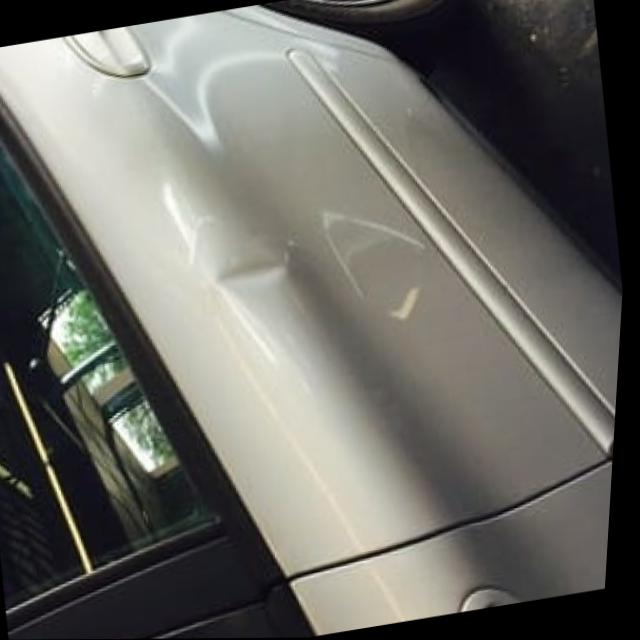Dent: (200, 212, 316, 330)
